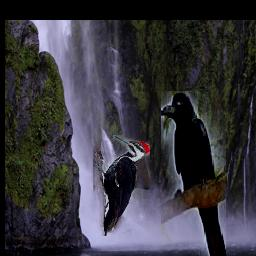Crow: (162, 92, 227, 256)
Woodpecker: (94, 136, 151, 237)
